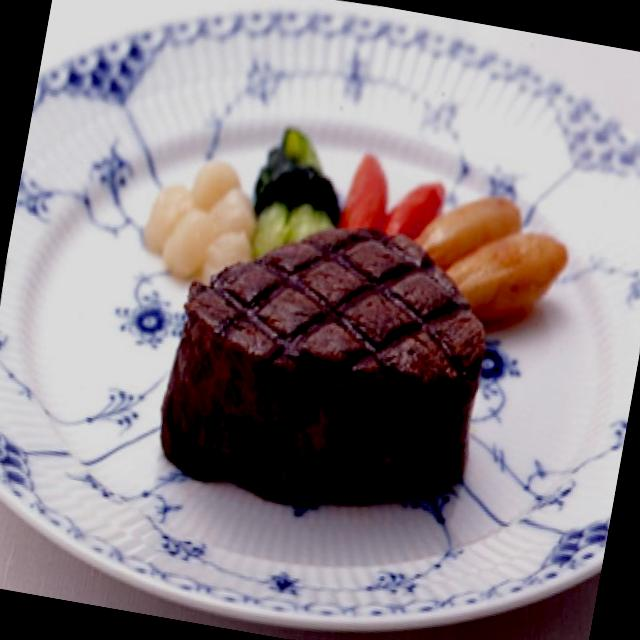Beef Steak: (135, 181, 516, 538)
